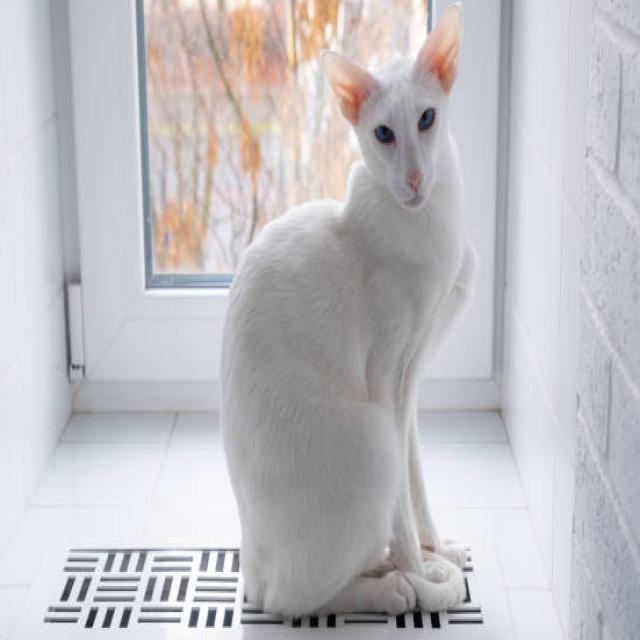Oriental: (216, 0, 480, 621)
